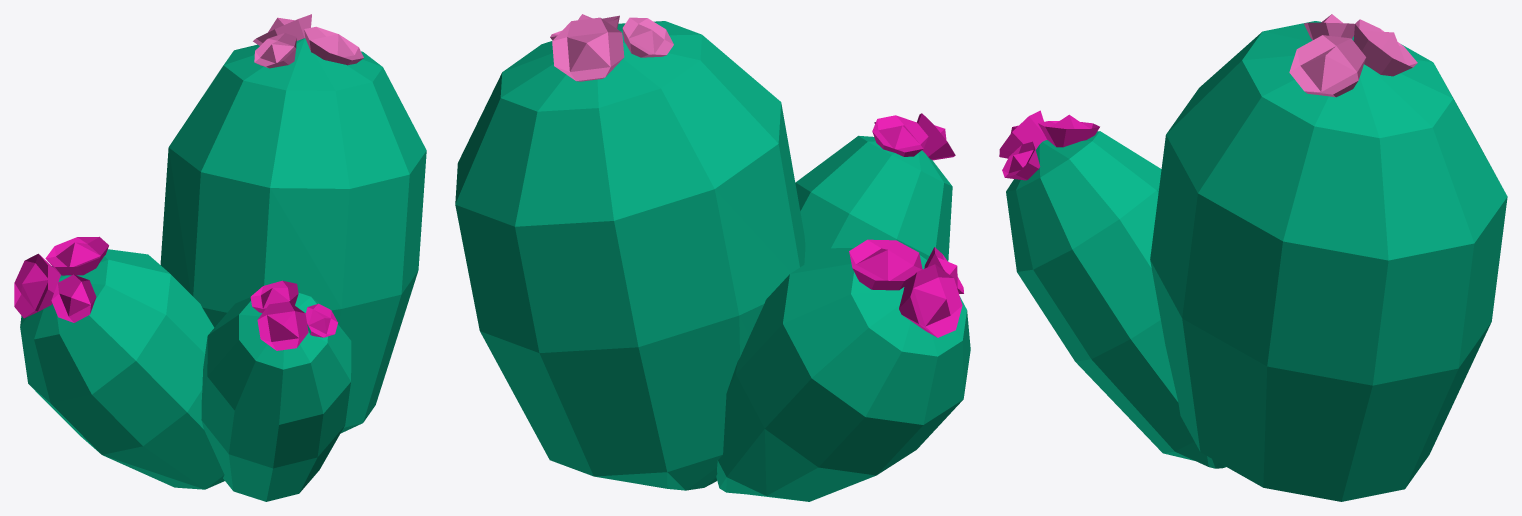
The model's file is Desert_plant_002.fbx.
3 views of the same model, side by side, from view 1: azimuth 30°, elevation 25°; view 2: azimuth 150°, elevation 25°; view 3: azimuth 270°, elevation 25° (orthographic). The views are drawn at different scales.
Visible parts, largest first — view 1: Desert_plant_002; view 2: Desert_plant_002; view 3: Desert_plant_002.
Boxes of the visible parts, box(x1,y1,x2,y2) form: Desert_plant_002: box(14, 14, 426, 501); Desert_plant_002: box(455, 14, 970, 501); Desert_plant_002: box(999, 14, 1507, 501).
Size of the model in its own units: 96.52 by 92.89 by 87.99.
